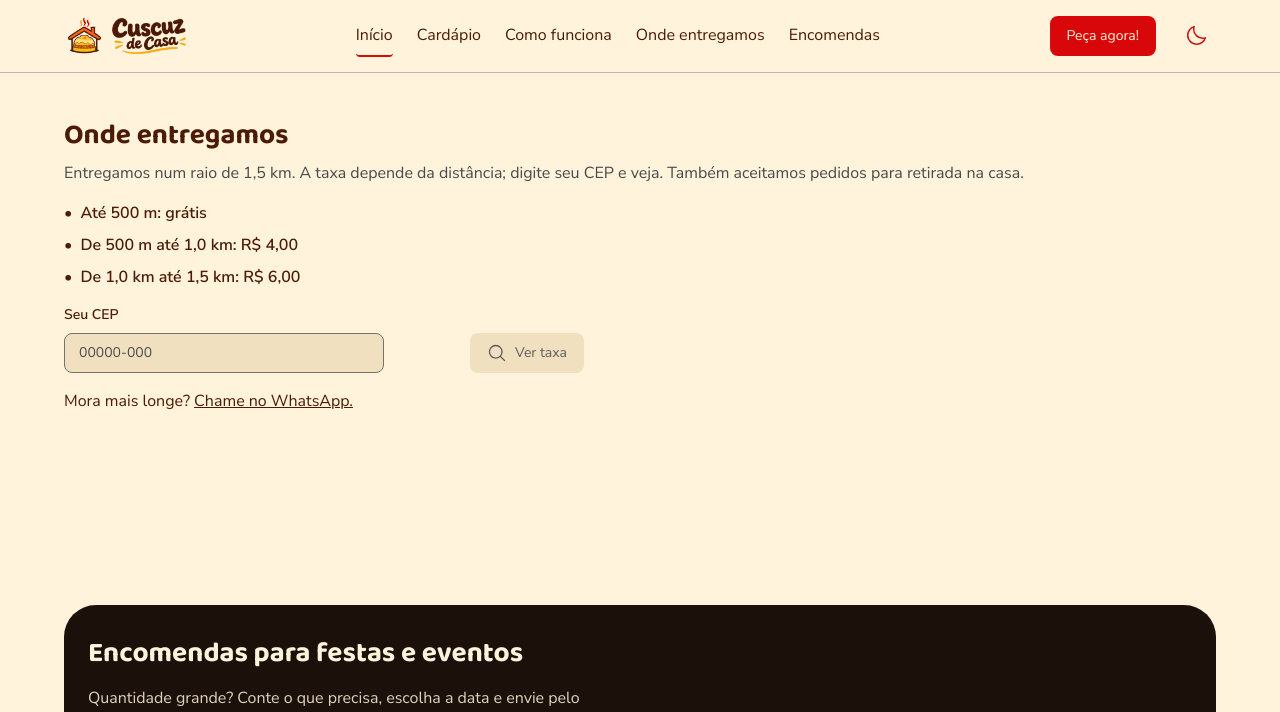
Home: onde entregamos e consulta de taxa › serviço fora do ar: avisa que a taxa será confirmada no WhatsApp
The width and height of the screenshot is (1280, 712).
(page scrolled)
Type "57046000" into the field labelled "Seu CEP" at (224, 353), box [77, 334, 371, 372]
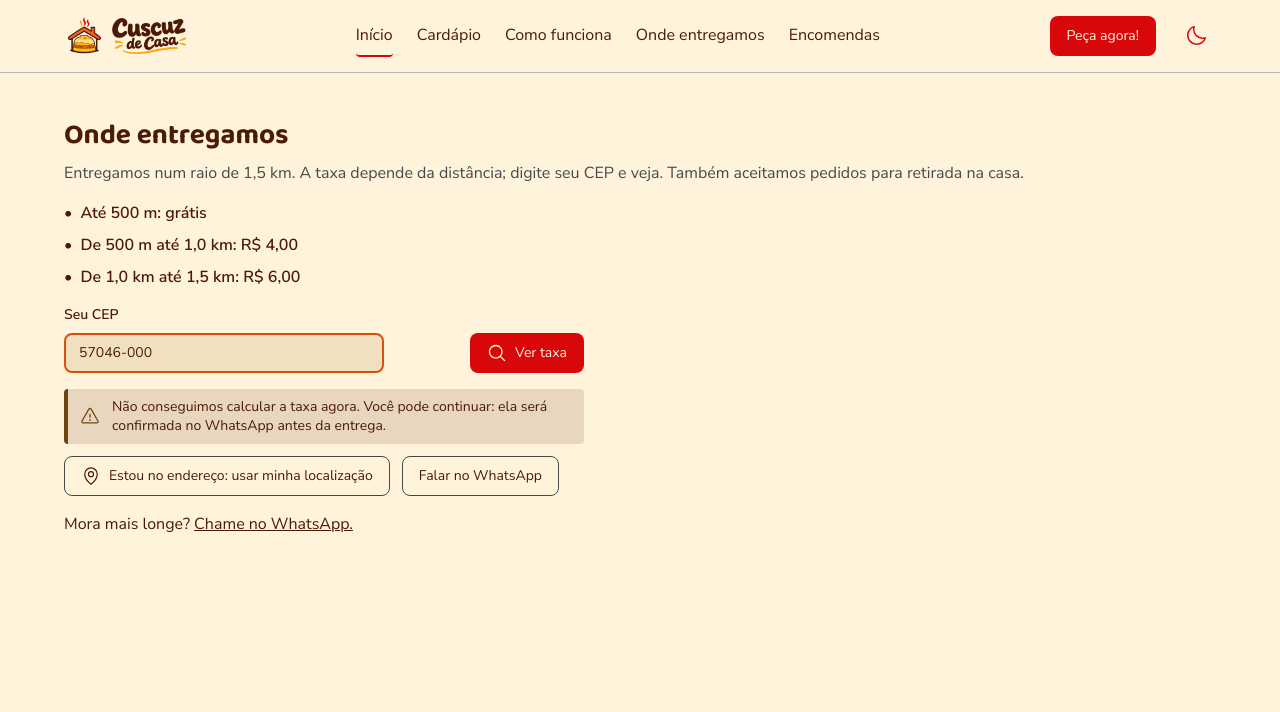
Expected: the text "Não conseguimos calcular a taxa agora" is shown, [112, 397, 547, 435]
